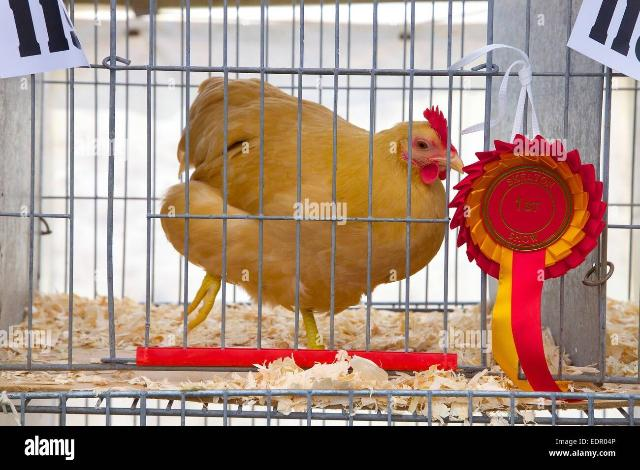Chicken: (160, 78, 465, 350)
